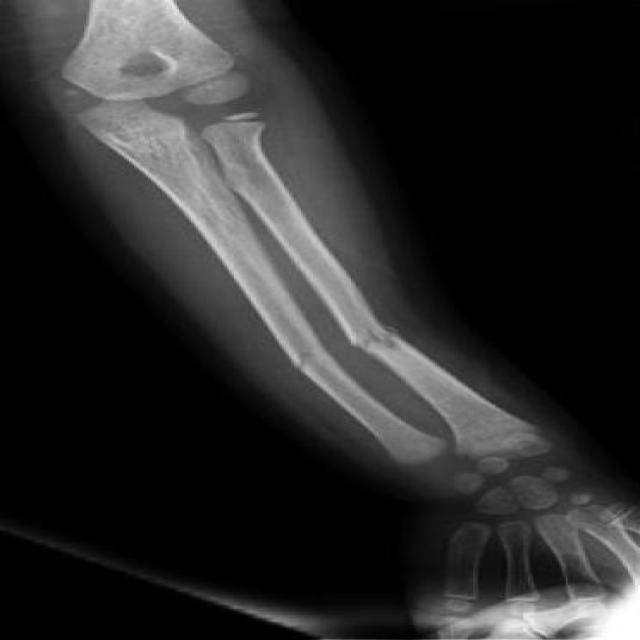bone: (227, 322, 447, 387)
